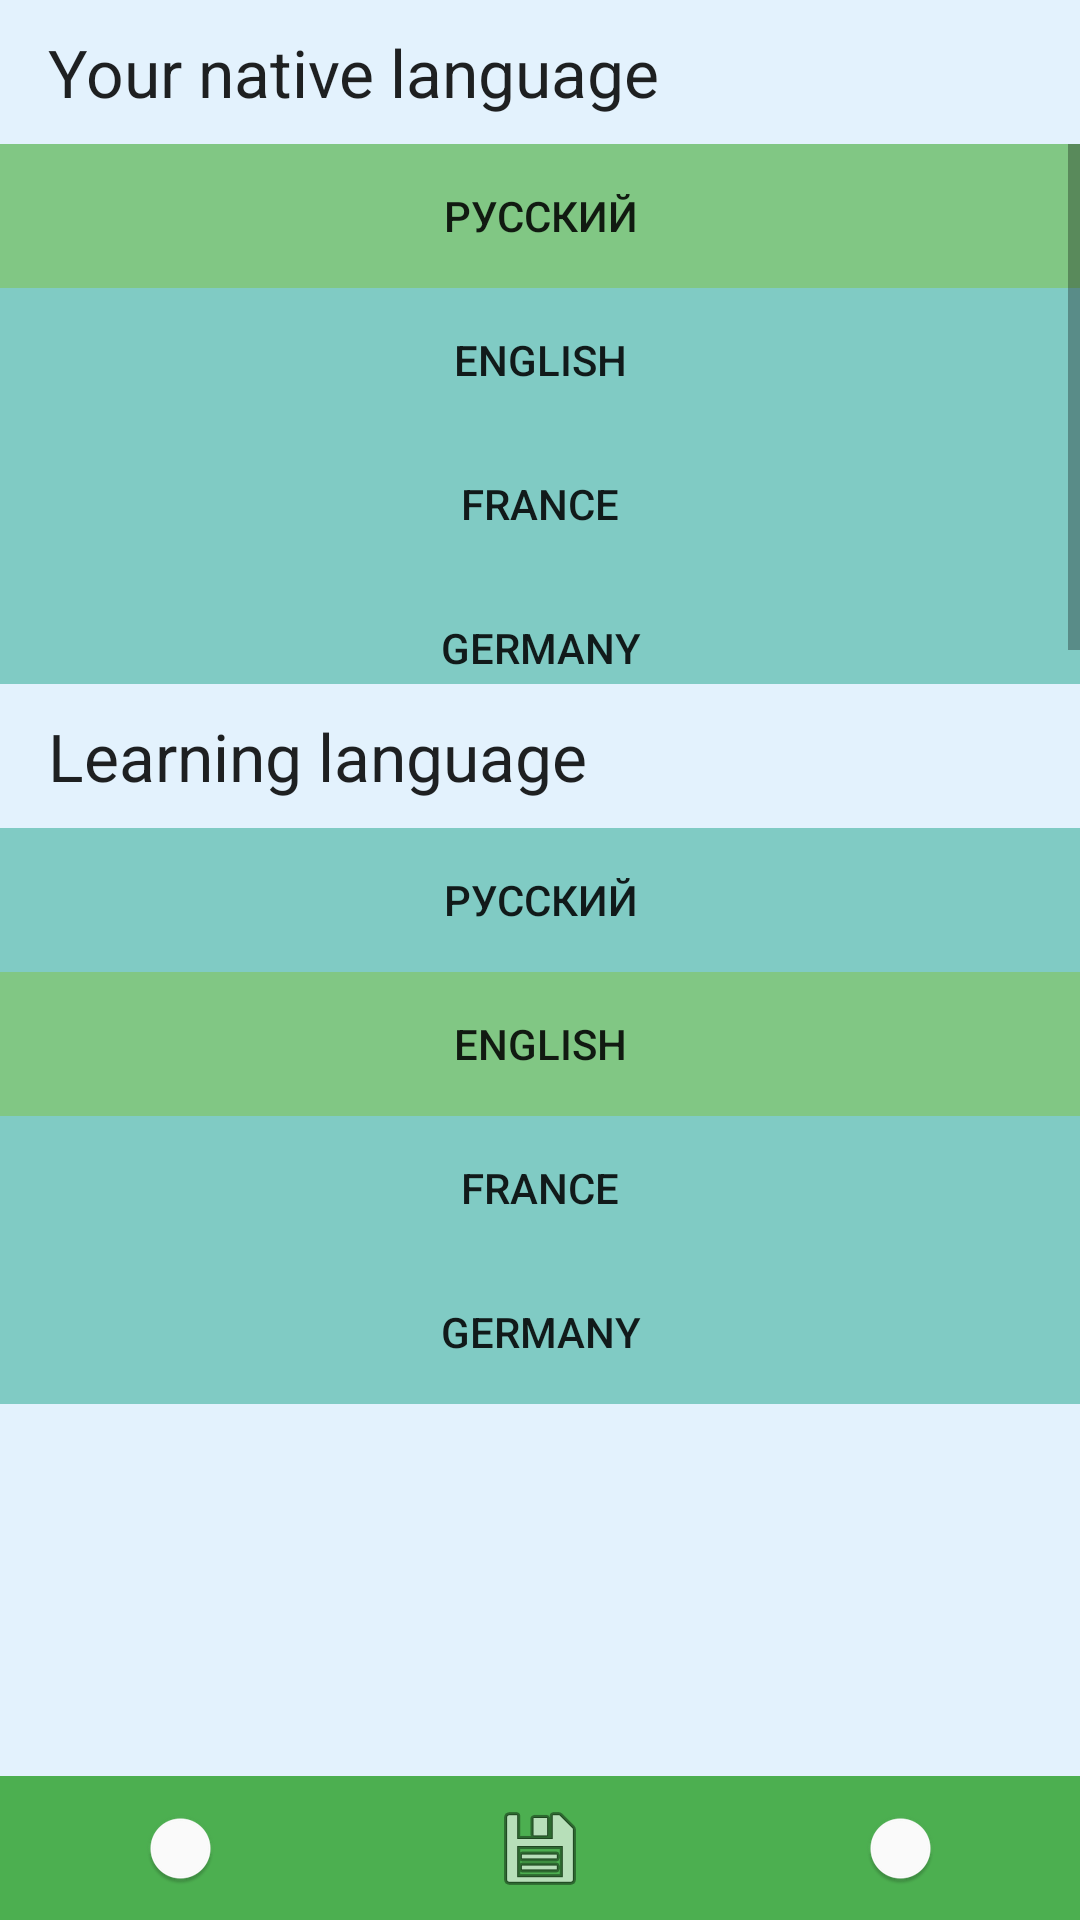

Where to tap for icons on this 1080*1920 app screen, as (x=x, y=y):
save: (x=540, y=1848)
switch thumb: (x=180, y=1850), (x=900, y=1850)
